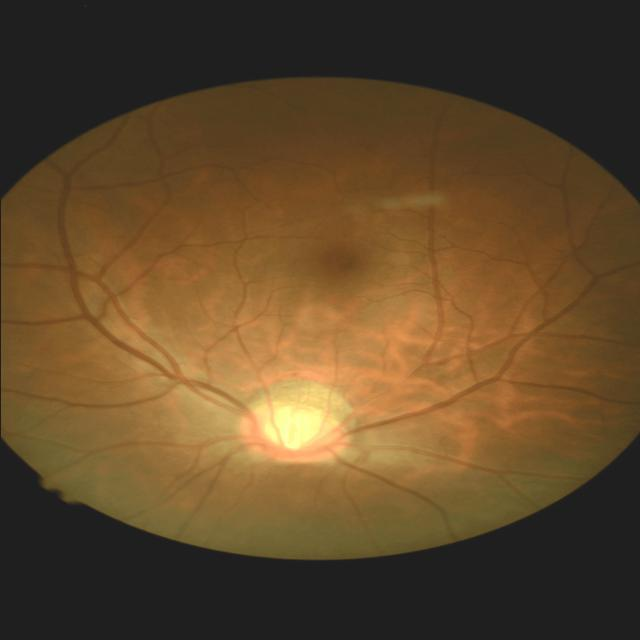cup: (256, 414, 334, 454)
disk: (238, 403, 344, 467)
